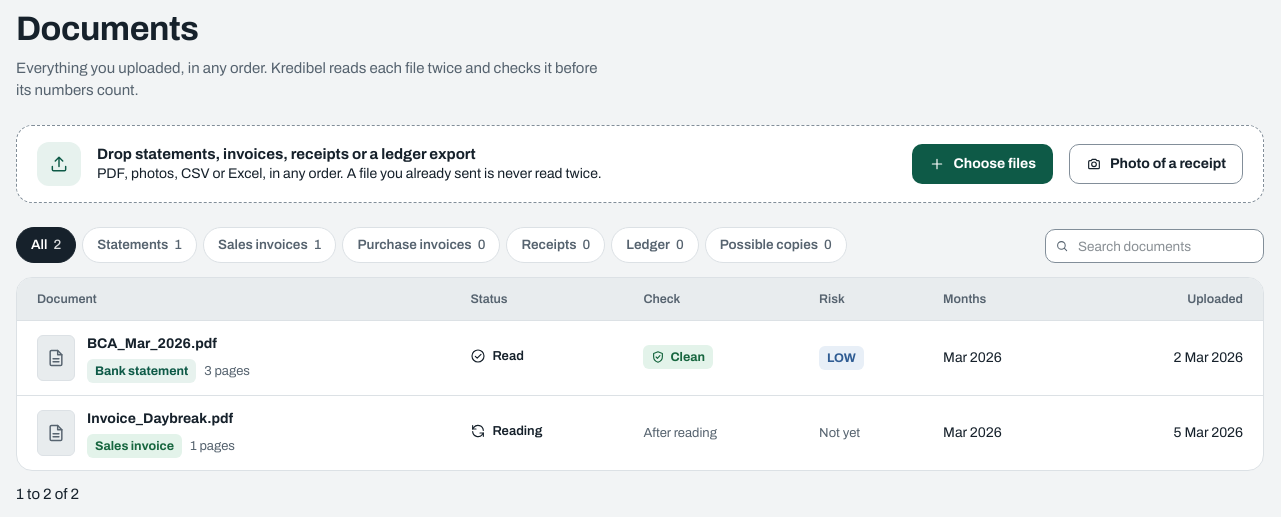
Test case: DocumentsPage › renders document rows with badges and handles filter chips (AC-003-7)
The image size is (1281, 517).
Check: the text "BCA_Mar_2026.pdf" is shown, box [87,336,217,351]
Check: the text "Invoice_Daybreak.pdf" is shown, box [87,408,235,430]
Click the button "Statements 1".
click(140, 245)  # box [82,227,197,263]
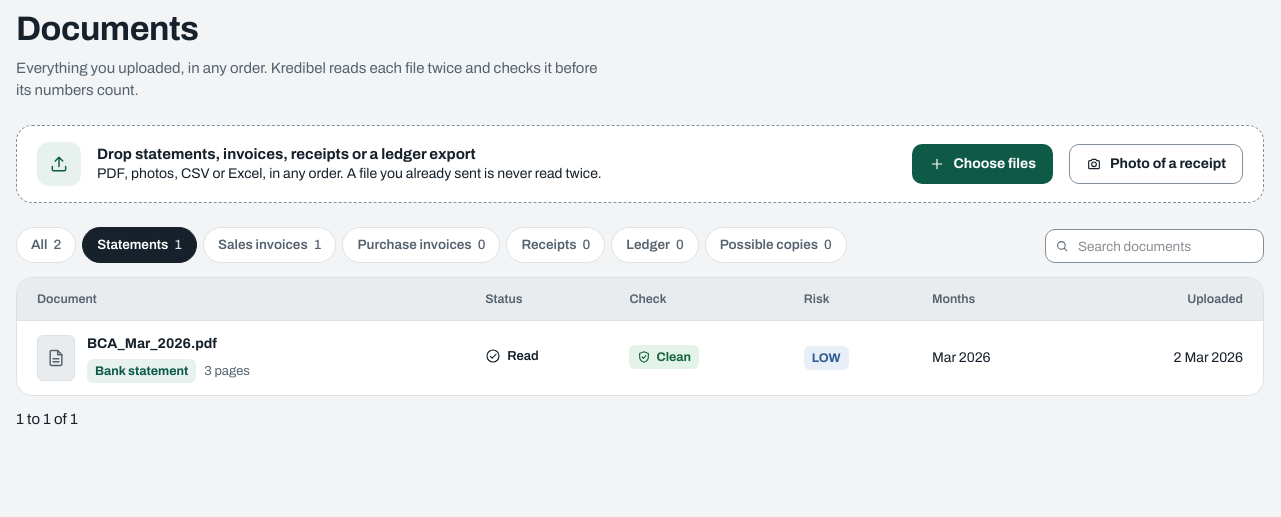
Check: the text "BCA_Mar_2026.pdf" is shown, box [87,336,217,351]
Check: the link "Invoice_Daybreak.pdf" is gone
Click the button "All 2".
click(46, 245)  # box [16,227,76,263]
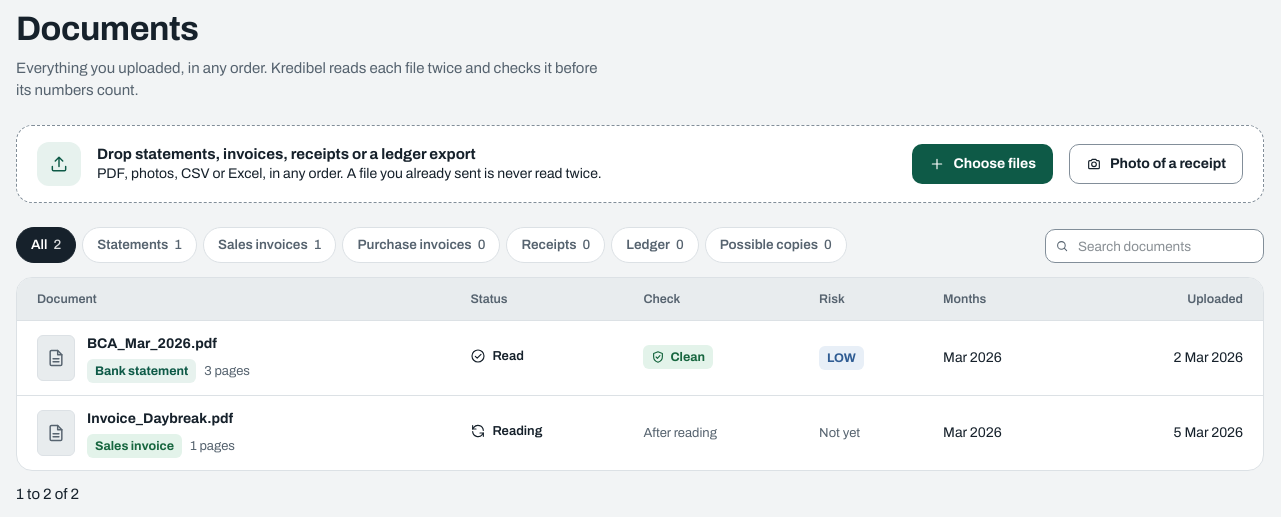
Type "daybreak" into the field labelled "Search documents".
click(1154, 246); type("daybreak")  # box [1045,229,1264,263]
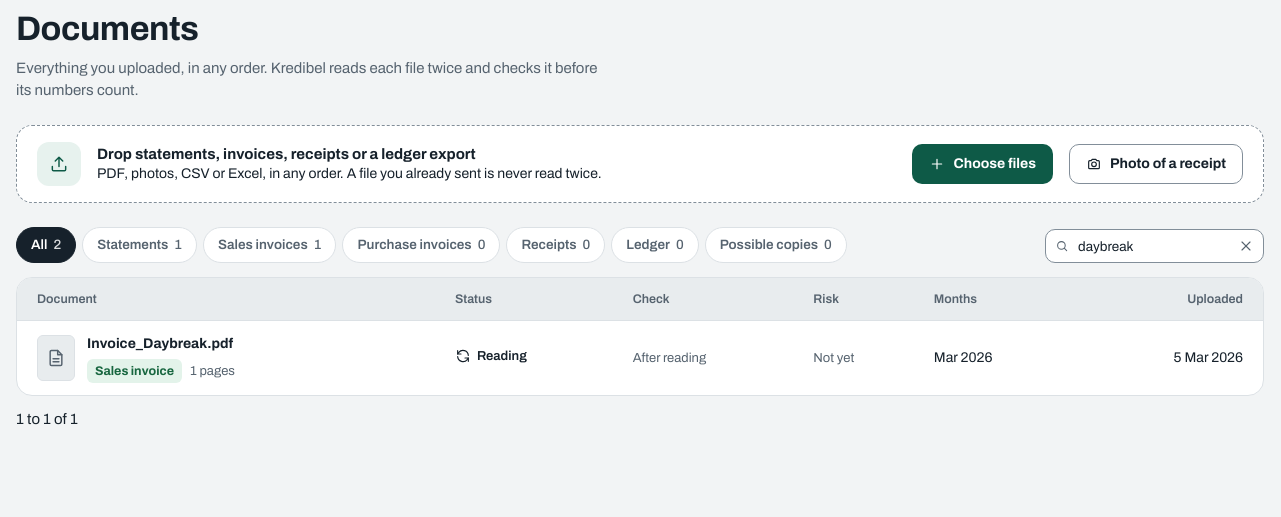
Check: the text "Invoice_Daybreak.pdf" is shown, box [87,333,235,355]
Check: the link "BCA_Mar_2026.pdf" is gone
